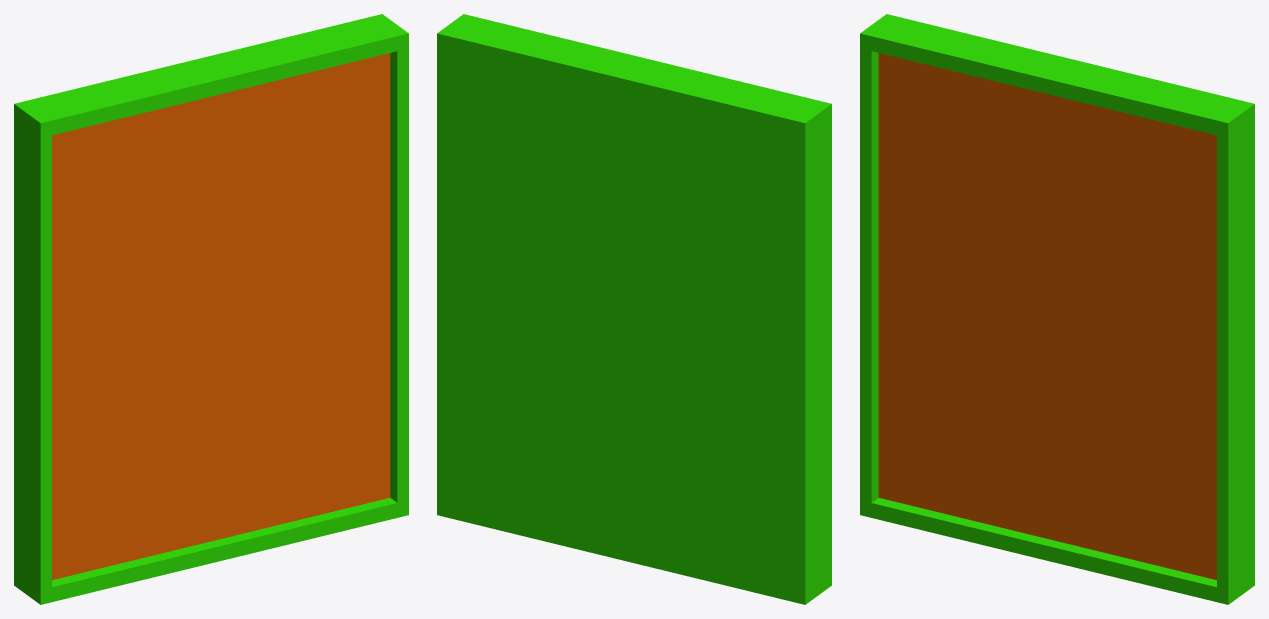
The model's file is Frame 1.fbx.
The picture shows the model from 3 angles, left to right: view 1: azimuth 30°, elevation 25°; view 2: azimuth 150°, elevation 25°; view 3: azimuth 330°, elevation 25°; orthographic projection.
Visible parts, largest first — view 1: Frame; view 2: Frame; view 3: Frame.
Part boxes in pixels (x1,y1,x2,y2): Frame: (14,14,408,604); Frame: (437,14,831,604); Frame: (860,14,1254,604).
Bounding box in the file's own units: 38.75 × 48.44 × 4.84.
